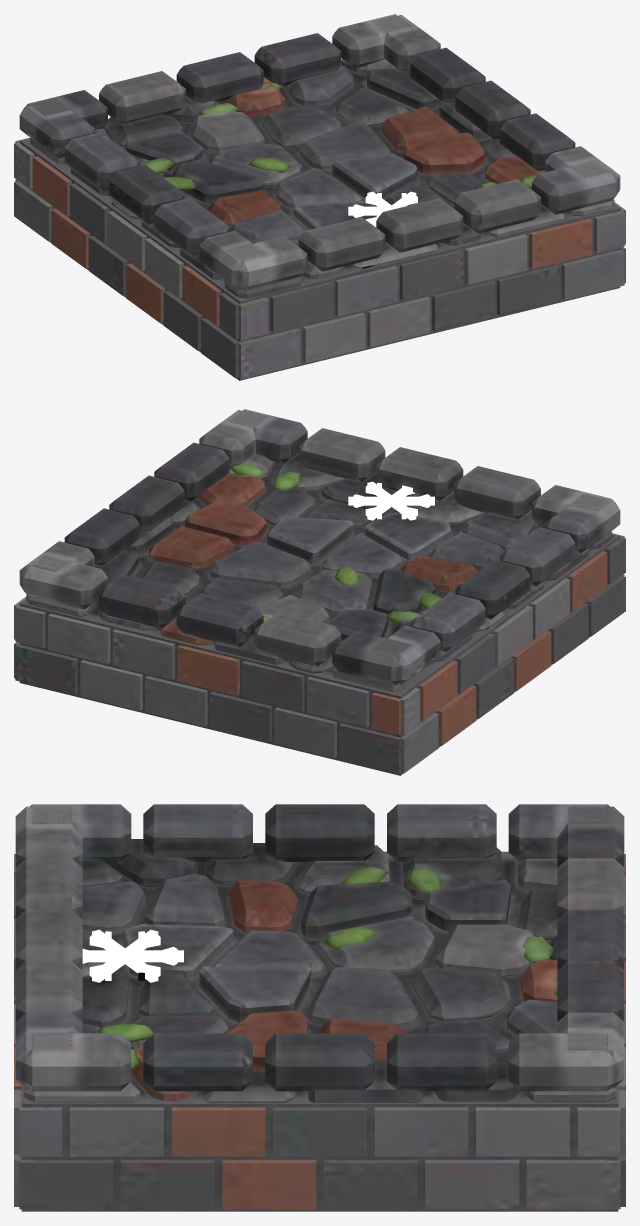
Rendered from plate_2_ice.glb.
3 views of the same model, one above another, from view 1: azimuth 30°, elevation 25°; view 2: azimuth 150°, elevation 25°; view 3: azimuth 270°, elevation 25° (orthographic). The views are drawn at different scales.
Parts seen in each view (by area): view 1: plate_2_ice; view 2: plate_2_ice; view 3: plate_2_ice.
Part boxes in pixels (bbox=[...]): plate_2_ice: bbox=[14, 14, 625, 380]; plate_2_ice: bbox=[14, 409, 625, 775]; plate_2_ice: bbox=[14, 804, 625, 1211].
Size of the model in its own units: 2.01 by 0.57 by 2.01.
1 material, 1 textured.
